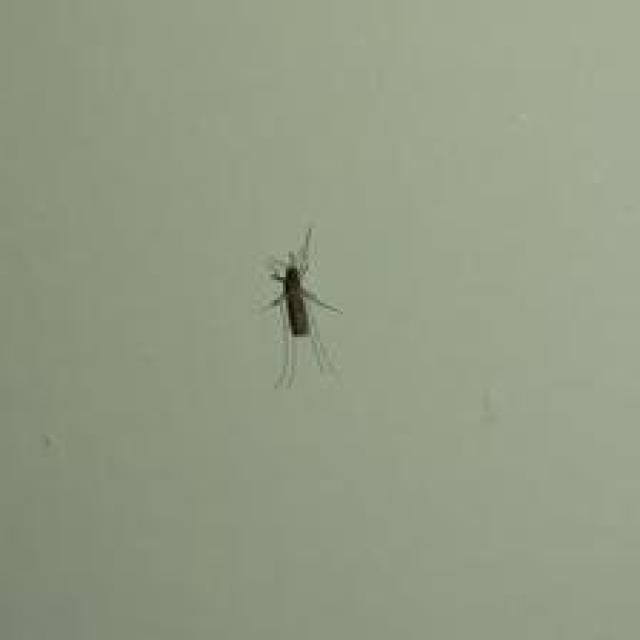Culex: (260, 227, 343, 390)
